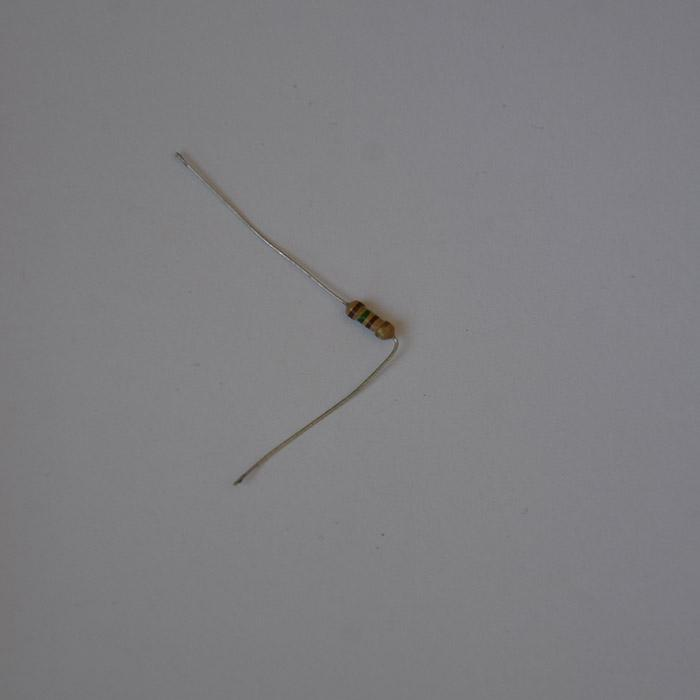resistor: (343, 299, 392, 338)
